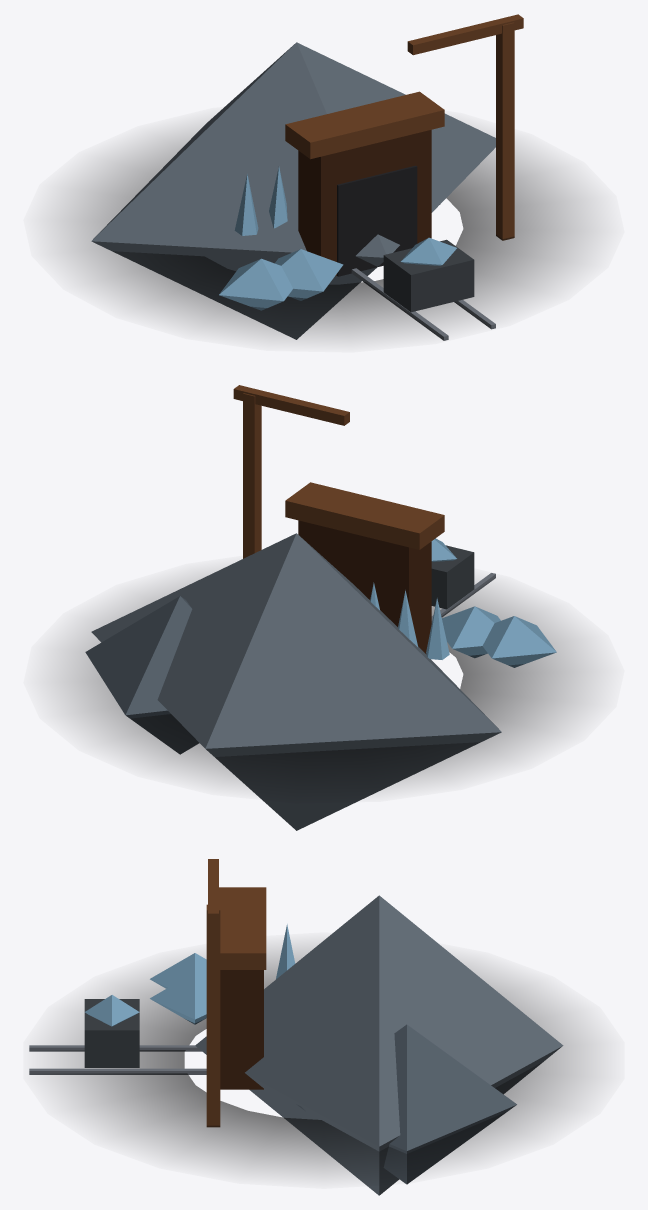
Rendered from iron_mine_t0.glb.
3 views of the same model, one above another, from view 1: azimuth 30°, elevation 25°; view 2: azimuth 150°, elevation 25°; view 3: azimuth 270°, elevation 25° (orthographic).
Parts seen in each view (by area): view 1: iron_mine_t0; view 2: iron_mine_t0; view 3: iron_mine_t0.
Boxes of the visible parts, x1=… form: iron_mine_t0: x1=61, y1=14, x2=586, y2=340; iron_mine_t0: x1=61, y1=385, x2=586, y2=830; iron_mine_t0: x1=29, y1=859, x2=586, y2=1195.
Bounding box in the file's own units: 6.8 × 4.22 × 6.73.
